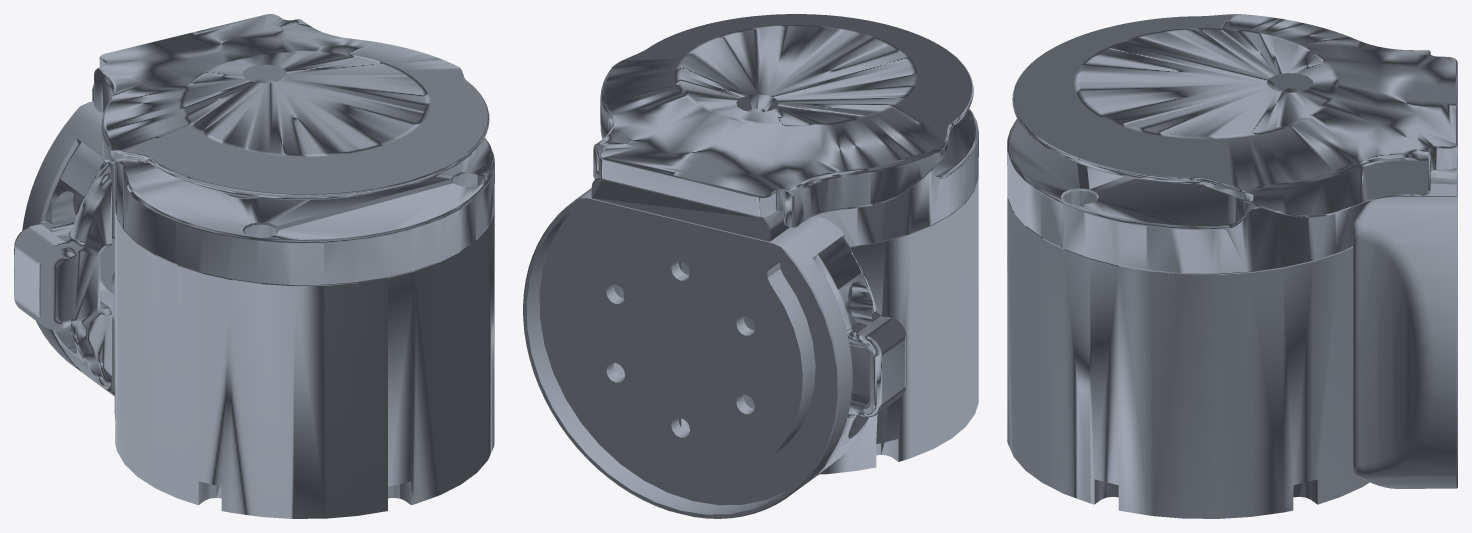
3 views of the same model, side by side, from view 1: azimuth 30°, elevation 25°; view 2: azimuth 150°, elevation 25°; view 3: azimuth 270°, elevation 25° (orthographic). The views are drawn at different scales.
Bounding box in the file's own units: 0.0627 × 0.0611 × 0.0644.
